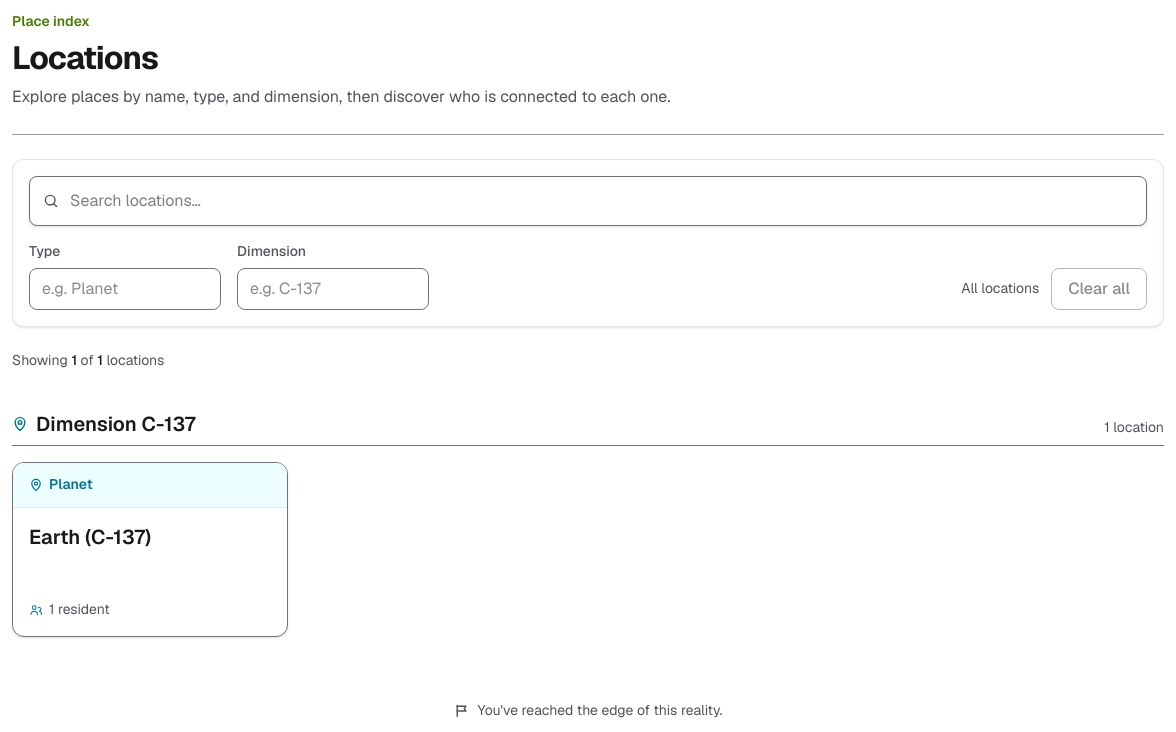
Test case: LocationBrowser (integration: filter bar + results + GraphQL layer) › shows an empty state with a working clear-filters action
Type "nowhere" into the search field with placeholder "Search locations…" at coordinates (588, 201), box x1=29 y1=176 x2=1147 y2=226
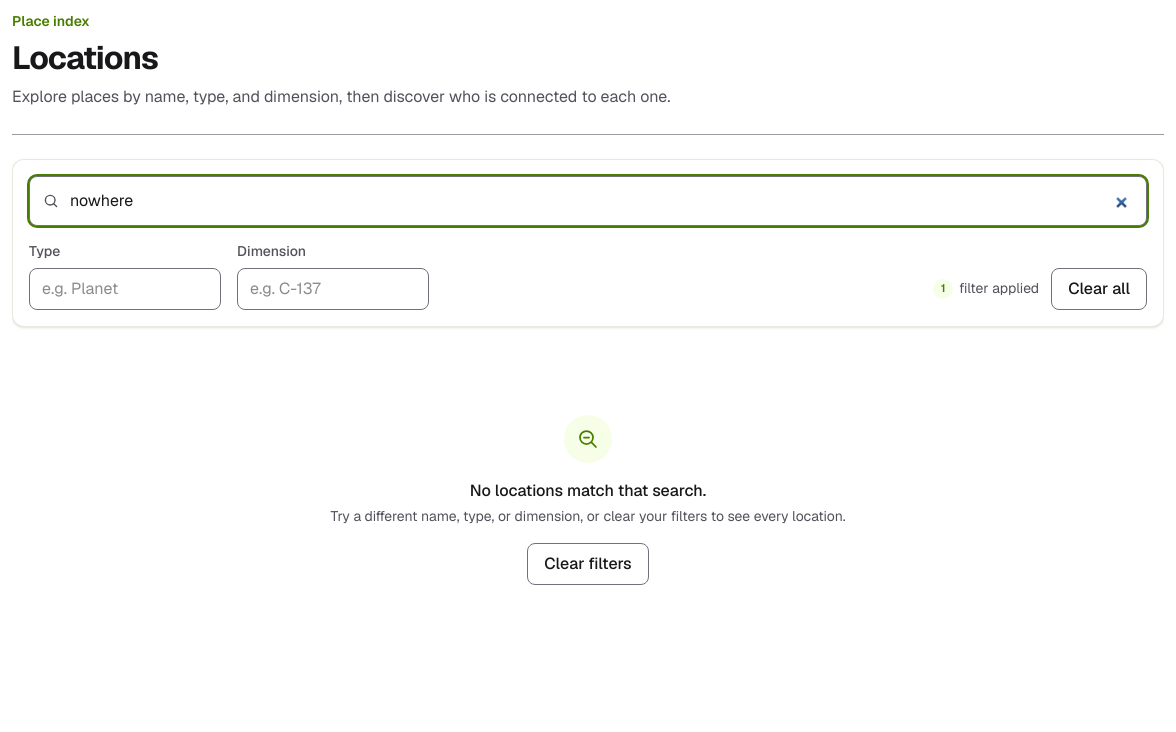
Result: the text "No locations match that search." is shown at x1=470 y1=480 x2=706 y2=501
Click the button "Clear filters" at coordinates (588, 564), box x1=527 y1=543 x2=649 y2=585
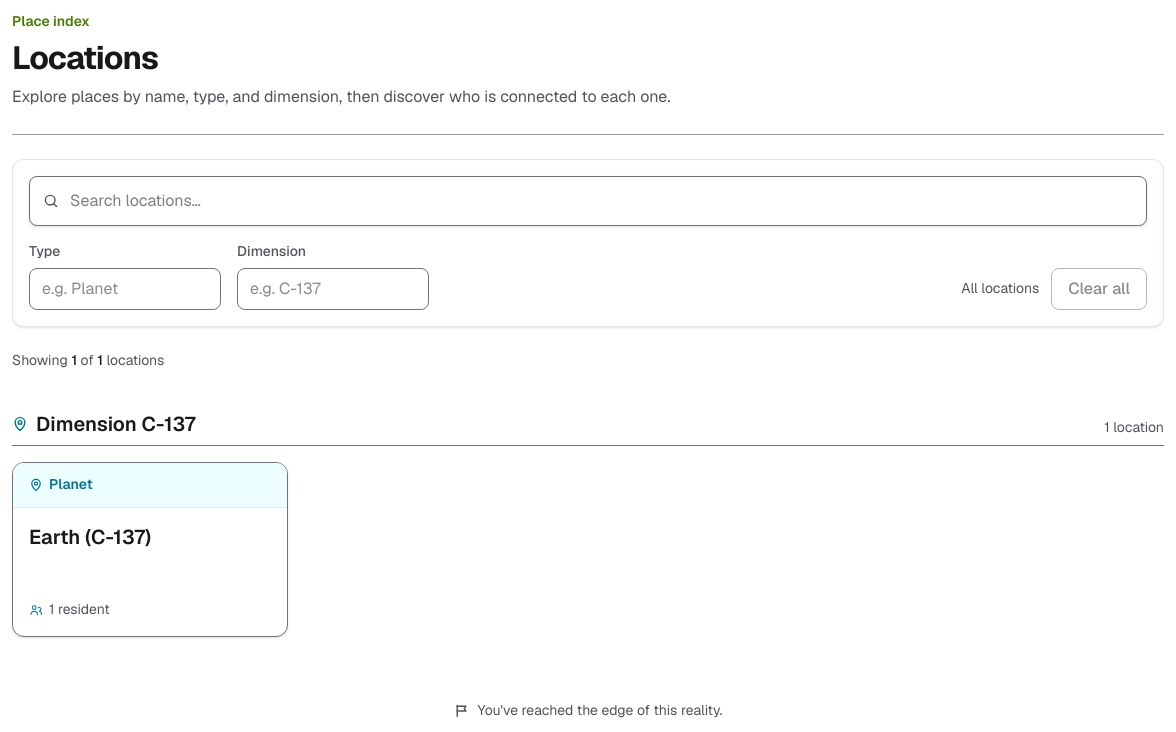
Result: the heading "Earth (C-137)" is shown at x1=29 y1=524 x2=151 y2=550
